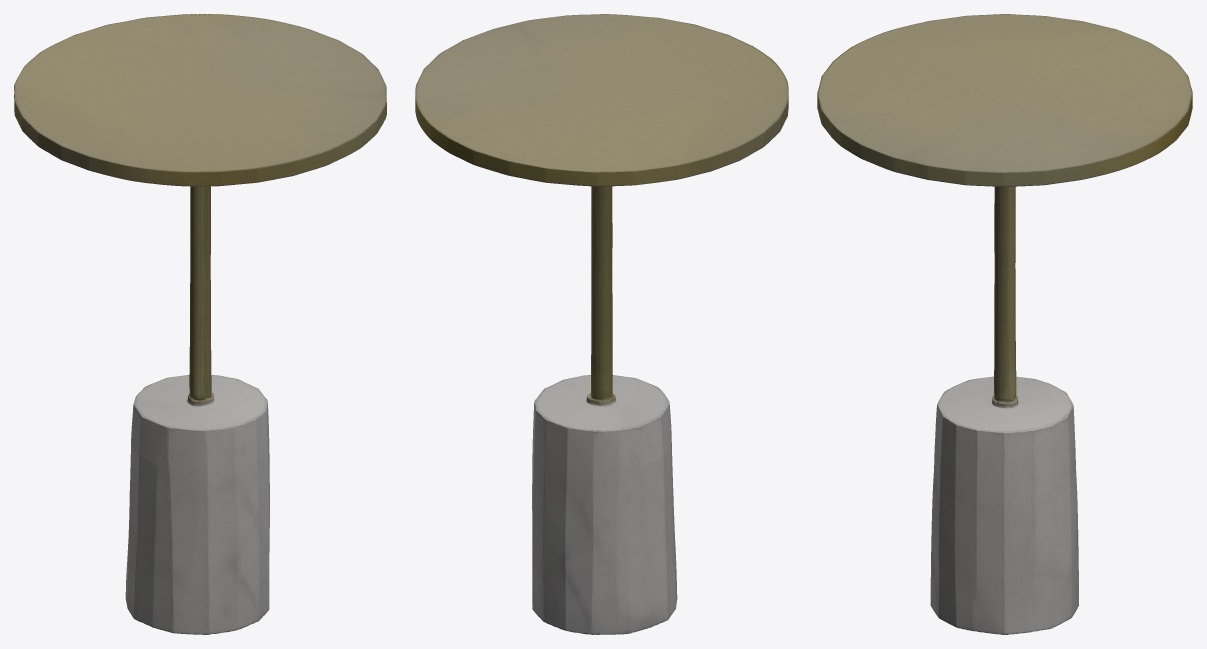
File: idarb_pbr.glb
3 renders of one model, left to right at view 1: azimuth 30°, elevation 25°; view 2: azimuth 150°, elevation 25°; view 3: azimuth 270°, elevation 25°, orthographic.
Visible parts, largest first — view 1: world; view 2: world; view 3: world.
Part boxes in pixels (left/top/right/bottom): world: left=14, top=14, right=386, bottom=634; world: left=415, top=14, right=788, bottom=634; world: left=817, top=14, right=1192, bottom=634.
Bounding box in the file's own units: 0.6606 × 0.9948 × 0.66.
Materials: 1 (1 with a texture image).
